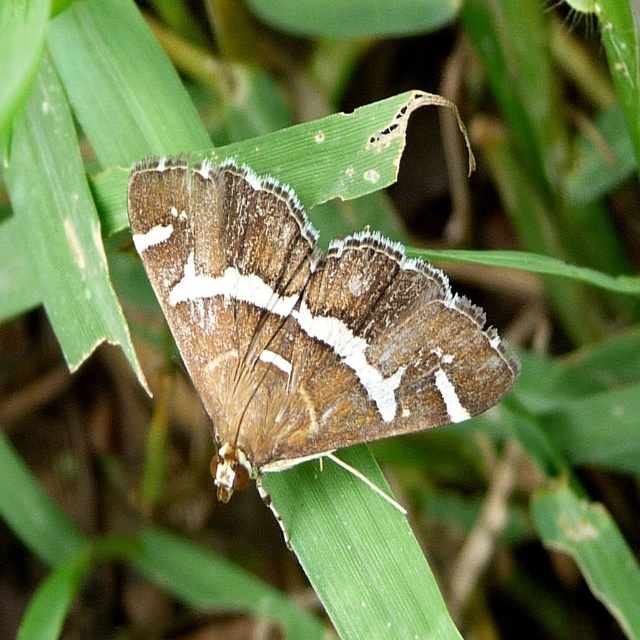Butterfly: (120, 112, 511, 521)
